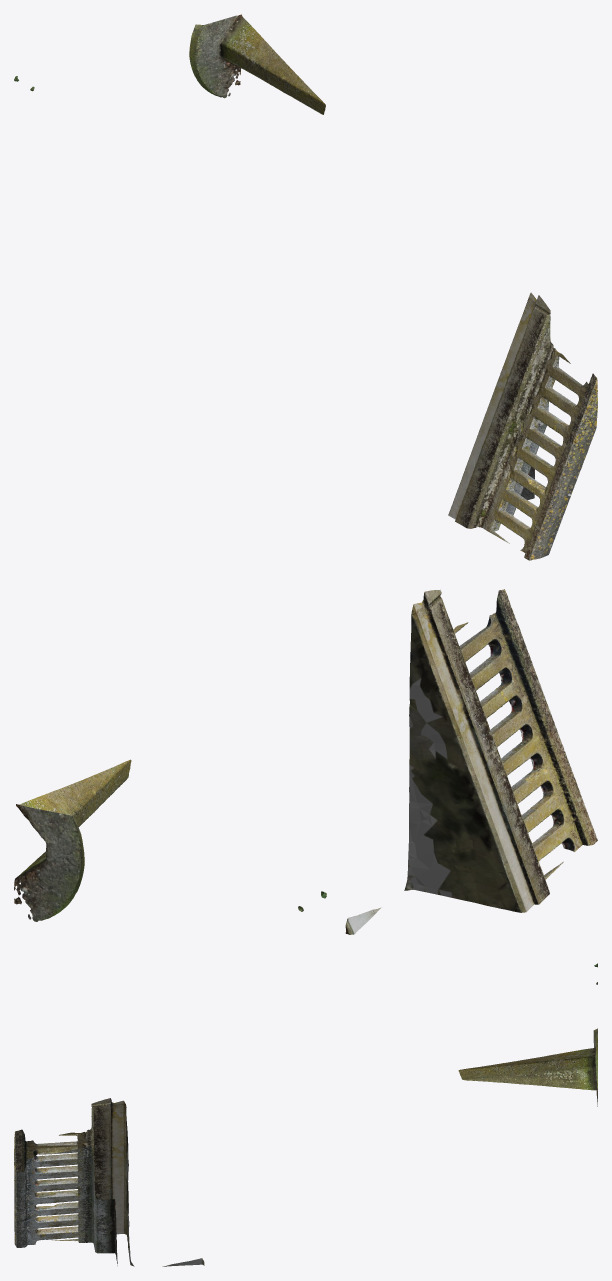
Rendered from Tile_+004_+008.obj.
3 renders of one model, top to bottom at view 1: azimuth 30°, elevation 25°; view 2: azimuth 150°, elevation 25°; view 3: azimuth 270°, elevation 25°, orthographic. The views are drawn at different scales.
Size of the model in its own units: 2.67 by 3.03 by 7.28.
1 material, 1 textured.
